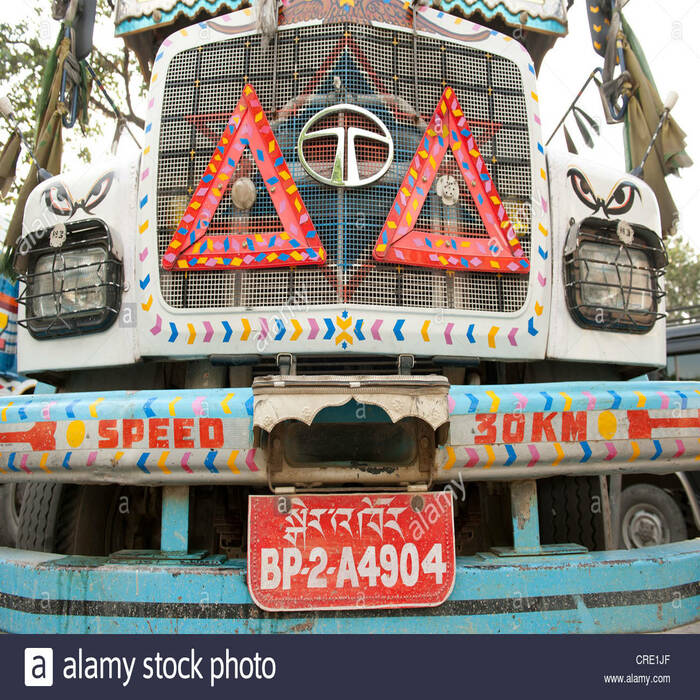n: (228, 485, 470, 605)
